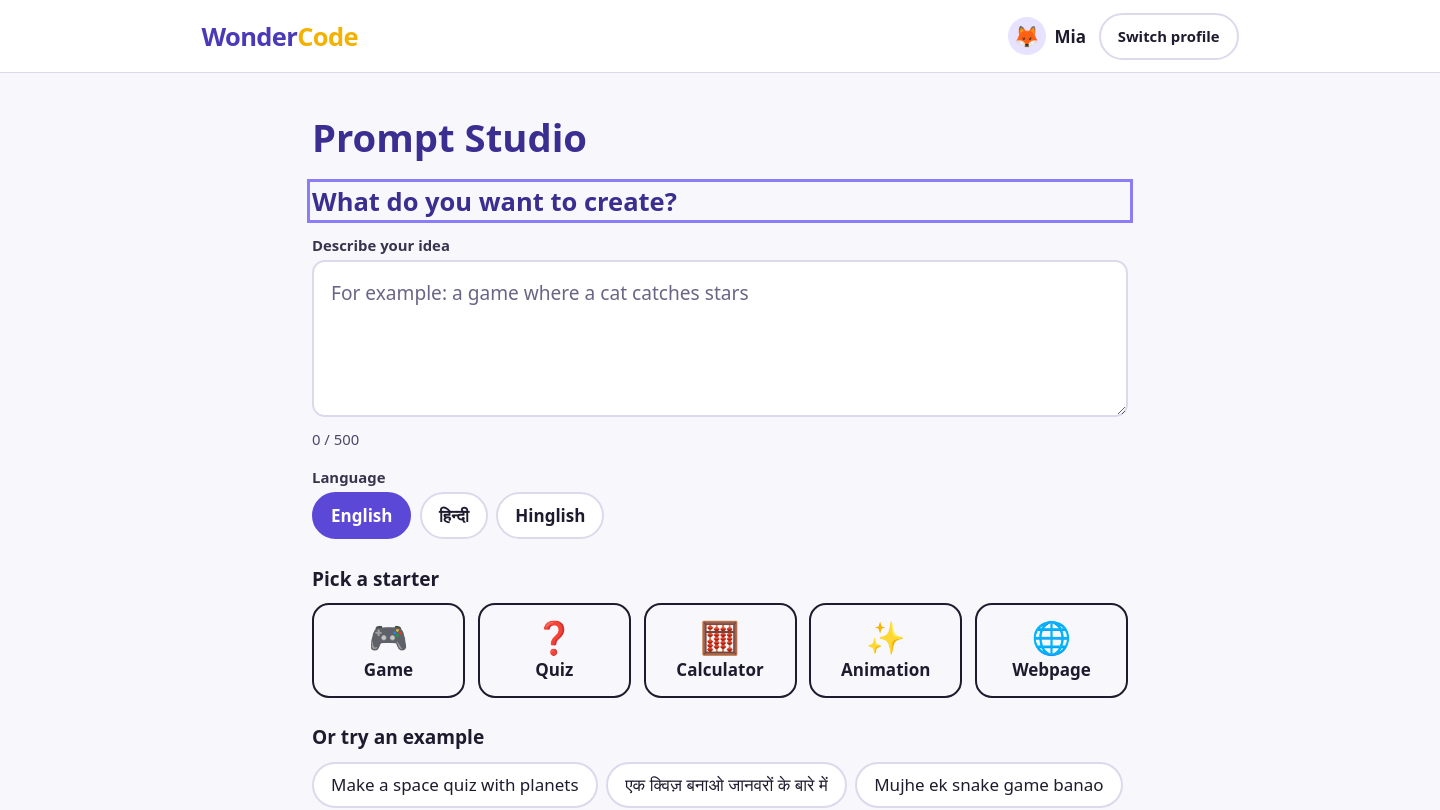
Test: Prompt Studio › sends the child id and profile language, then shows the plan in a chosen language
Expected: the heading "What do you want to create?" is shown, [312,184,677,218]
Type "make a quiz about space" into the text box labelled "Describe your idea" at (720, 339), box [312,260,1128,417]
(page scrolled)
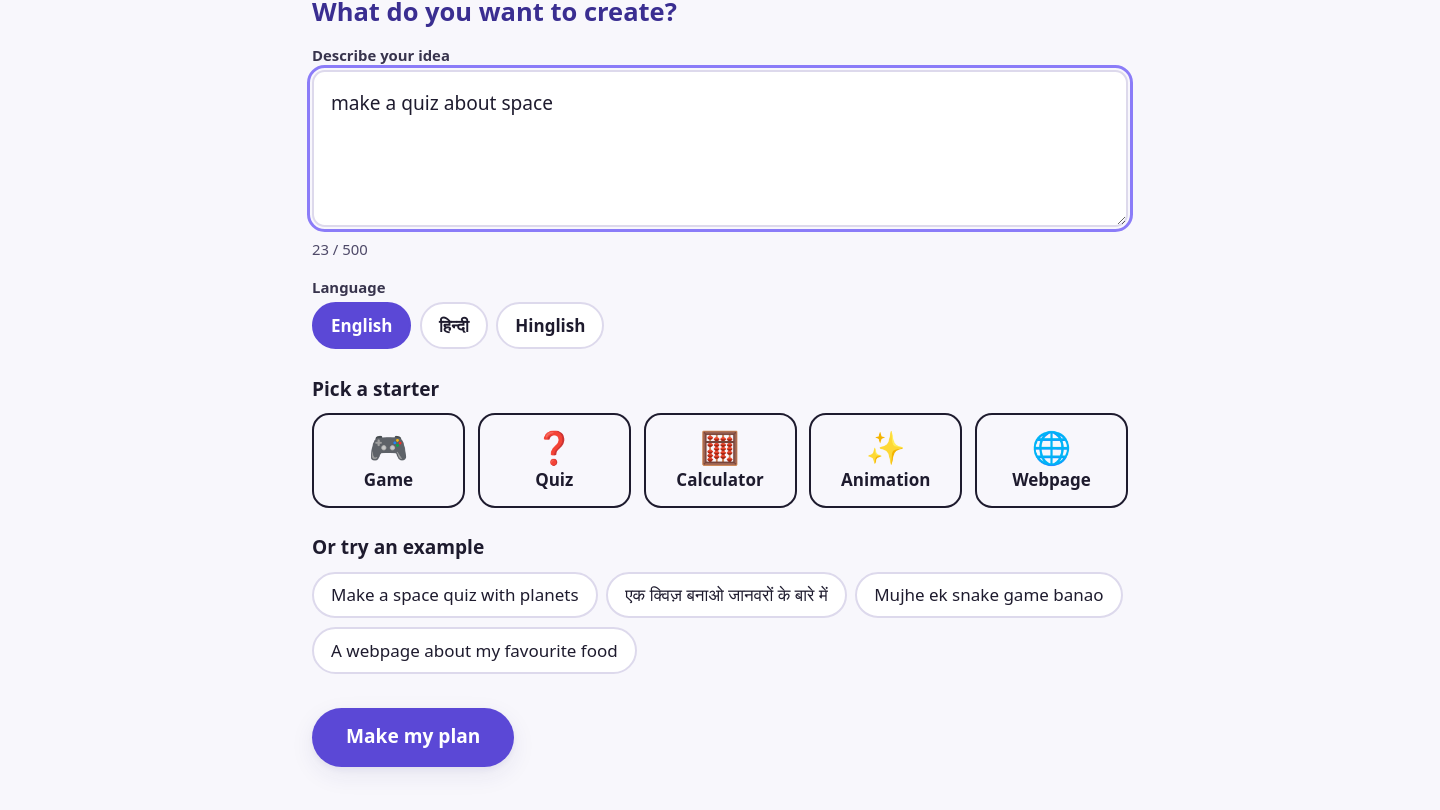
Click the button "Make my plan" at (413, 737), box [312,708,514,767]
(page scrolled)
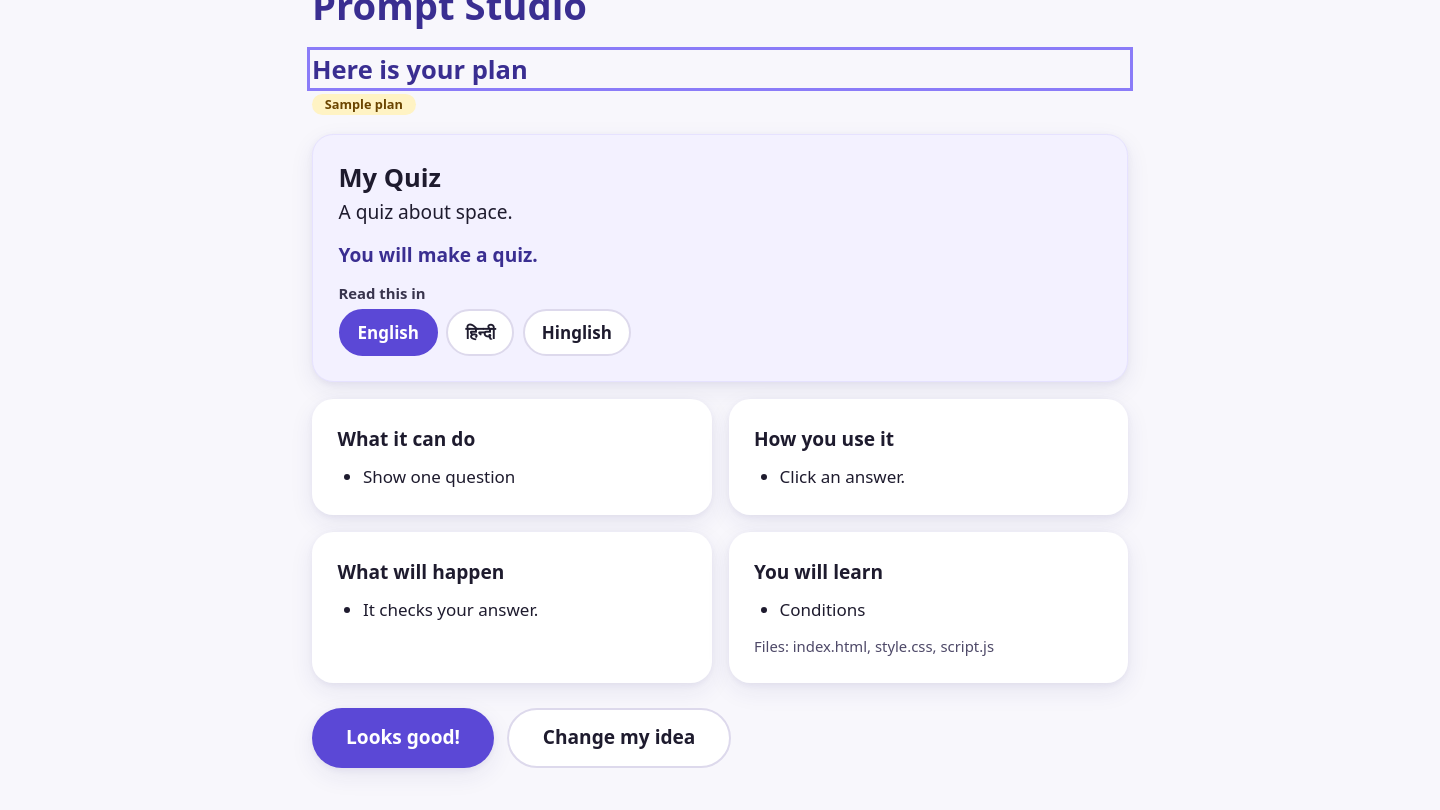
Now the text "Sample plan" is shown, box [312,94,416,115]
Now the text "You will make a quiz." is shown, box [338,242,538,268]
Click the button "हिन्दी" at (480, 332), box [446,309,514,356]
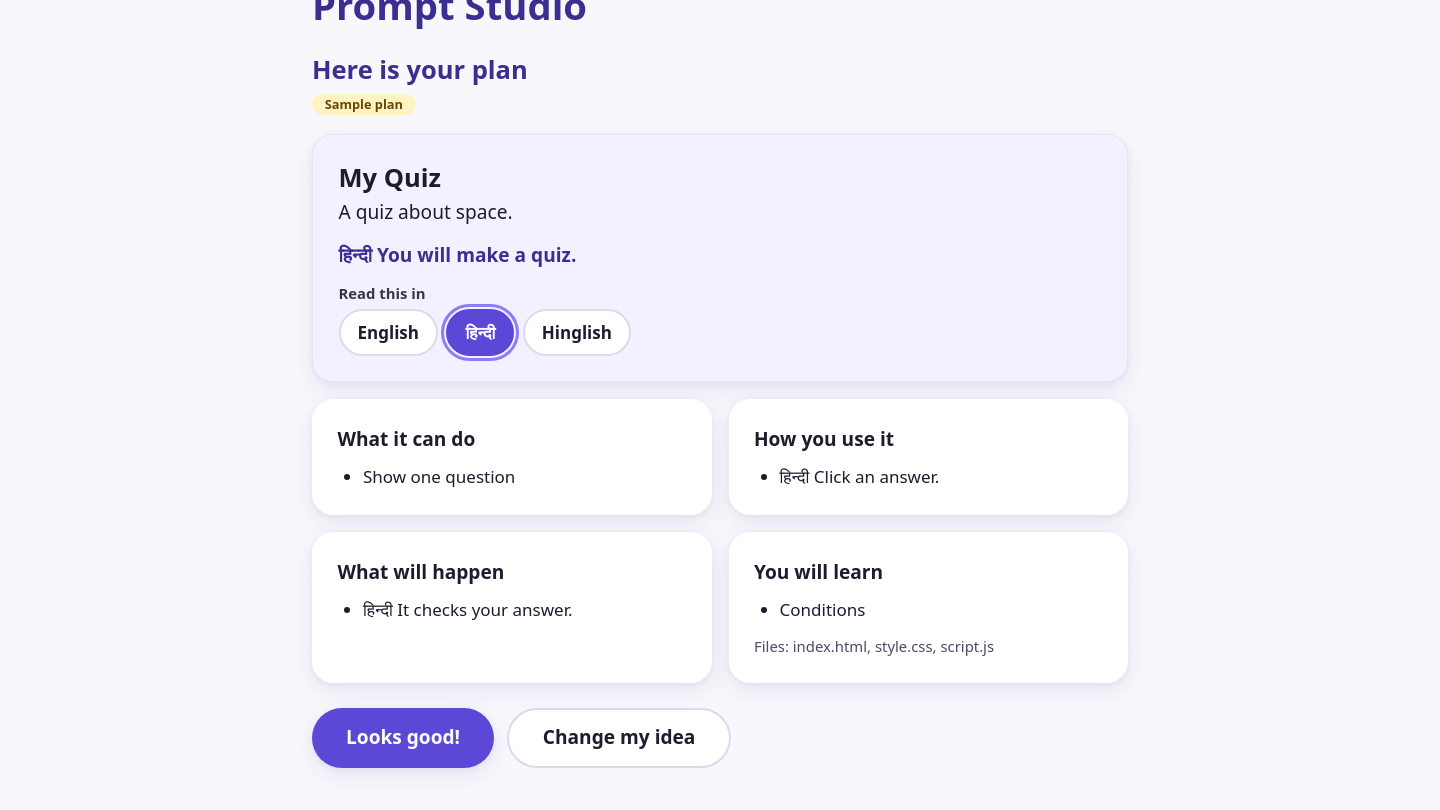
Now the text "हिन्दी You will make a quiz." is shown, box [338,242,576,268]
Now the list item "हिन्दी Click an answer." is shown, box [780,465,939,488]
